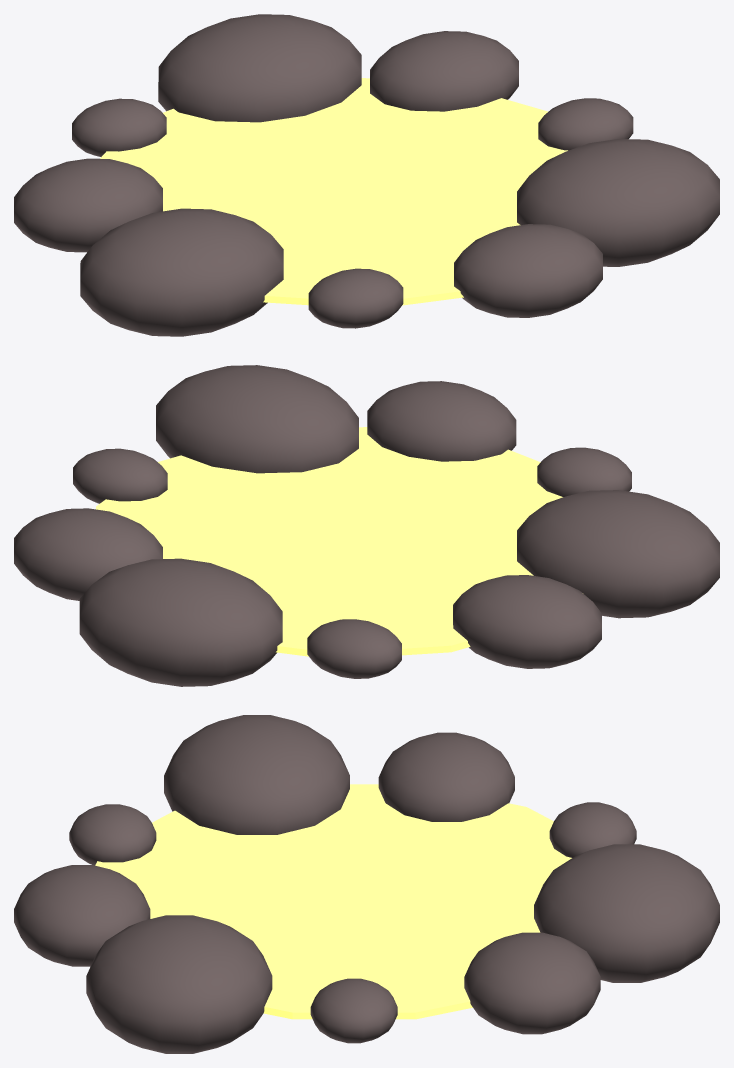
File: volcano__lava_pool.fbx
The picture shows the model from 3 angles, top to bottom: view 1: azimuth 30°, elevation 25°; view 2: azimuth 150°, elevation 25°; view 3: azimuth 270°, elevation 25°; orthographic projection. The views are drawn at different scales.
Parts seen in each view (by area): view 1: volcano__lava_pool; view 2: volcano__lava_pool; view 3: volcano__lava_pool.
Boxes of the visible parts, x1,y1,x2,y2 form: volcano__lava_pool: (14, 14, 719, 336); volcano__lava_pool: (14, 365, 719, 686); volcano__lava_pool: (14, 715, 719, 1053).
Bounding box in the file's own units: 5.53 × 0.9 × 5.61.
